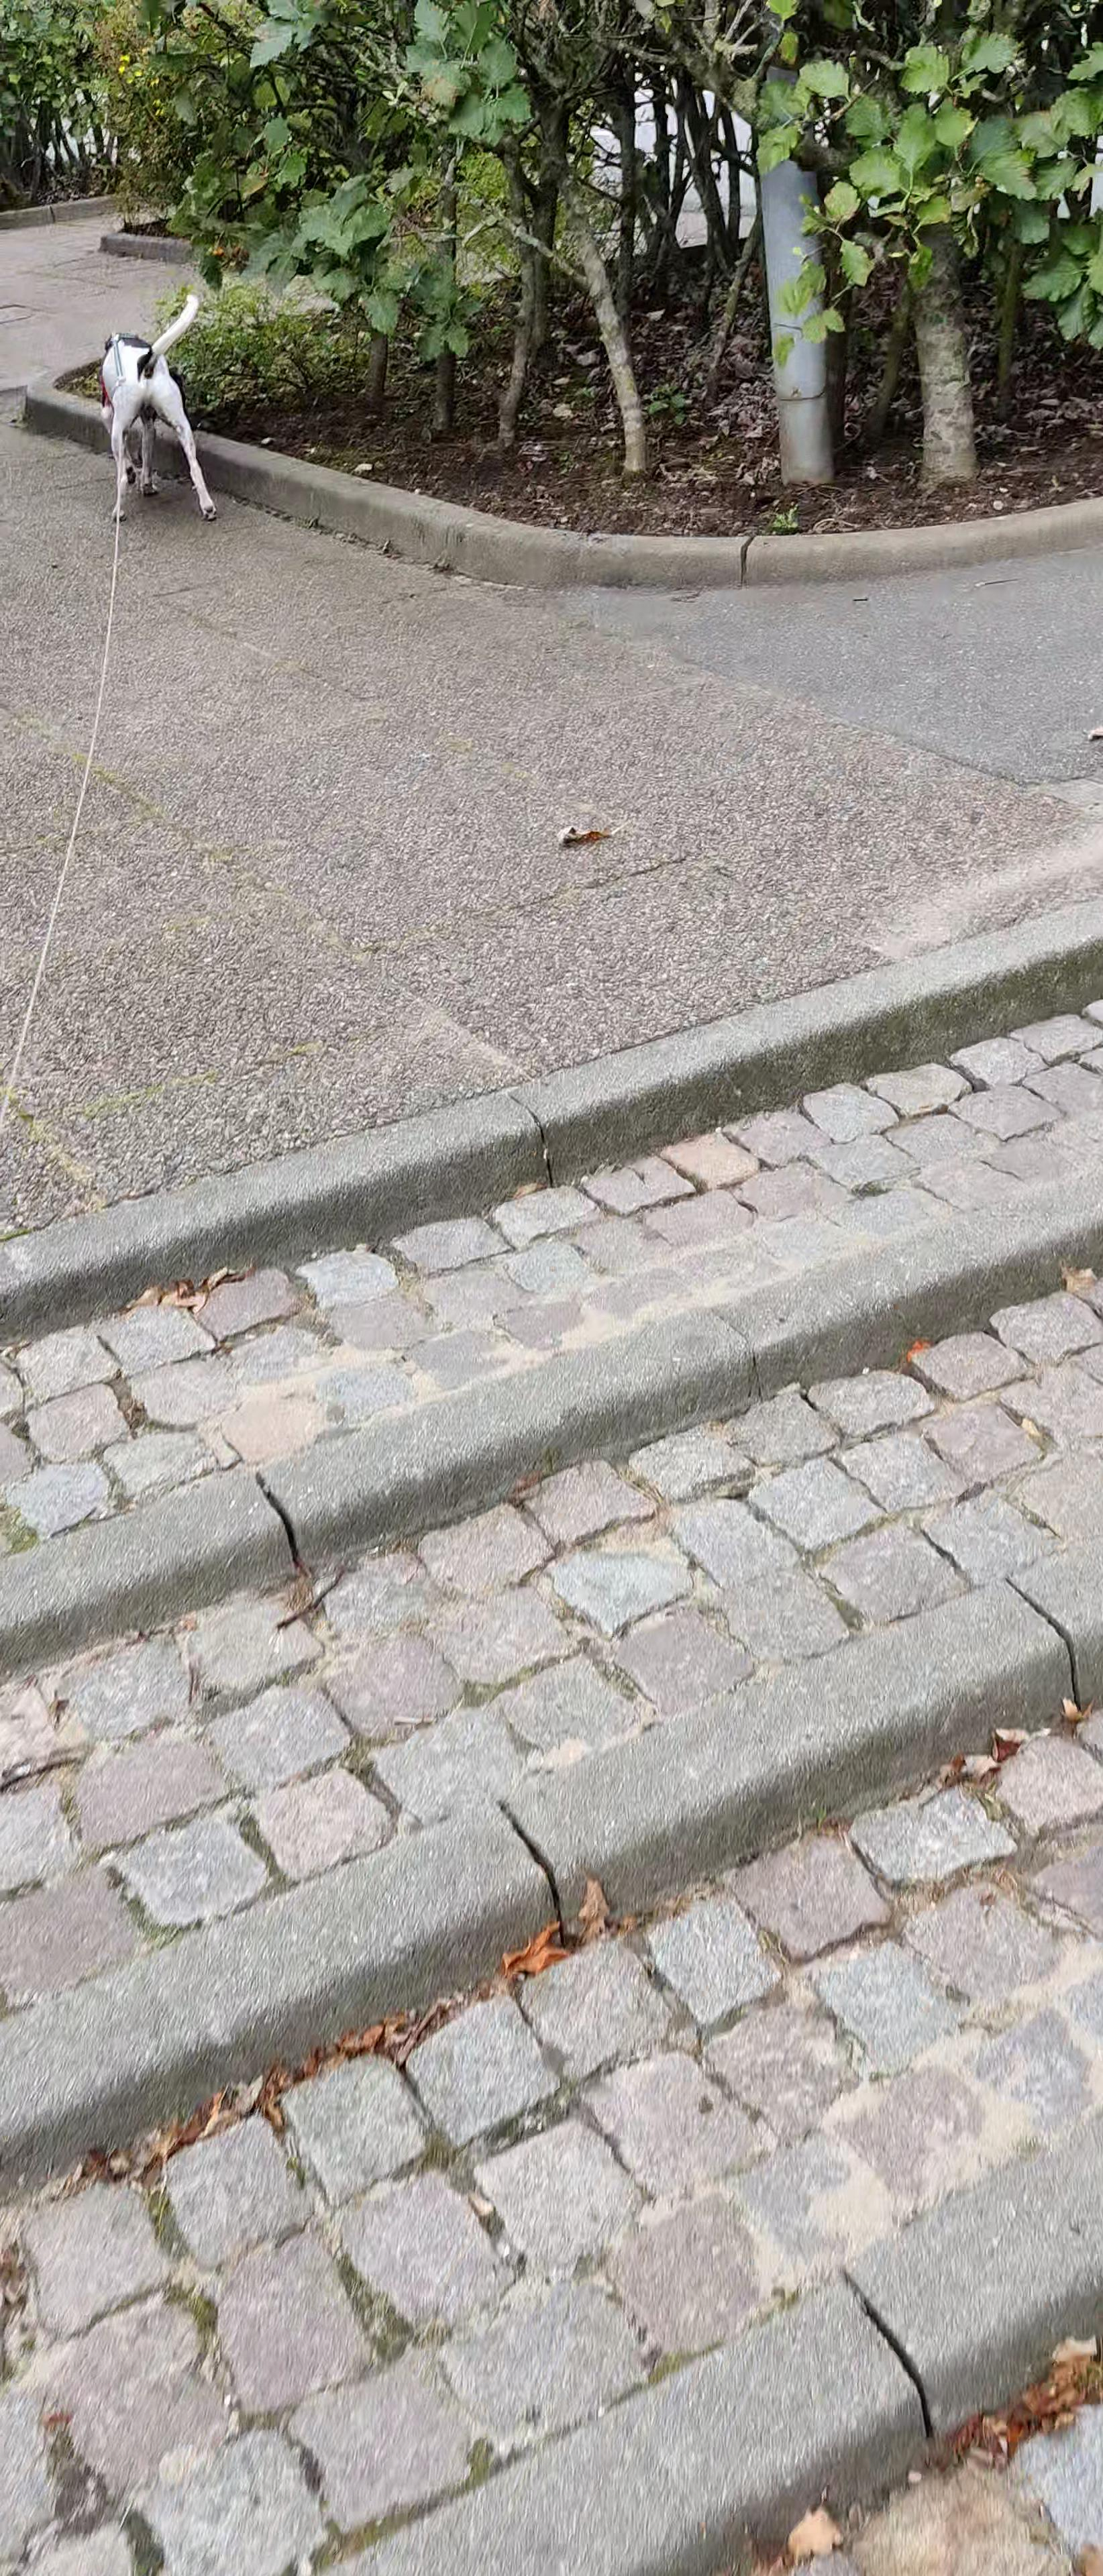Dog: (84, 283, 230, 534)
